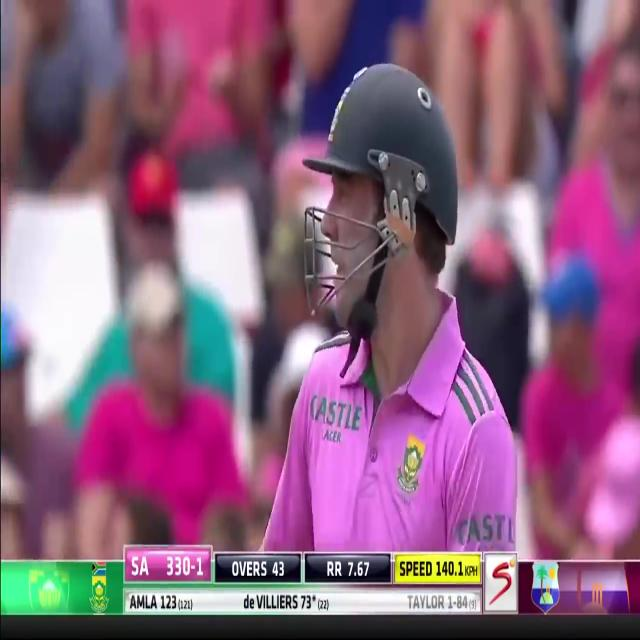Ball: (262, 60, 525, 557)
